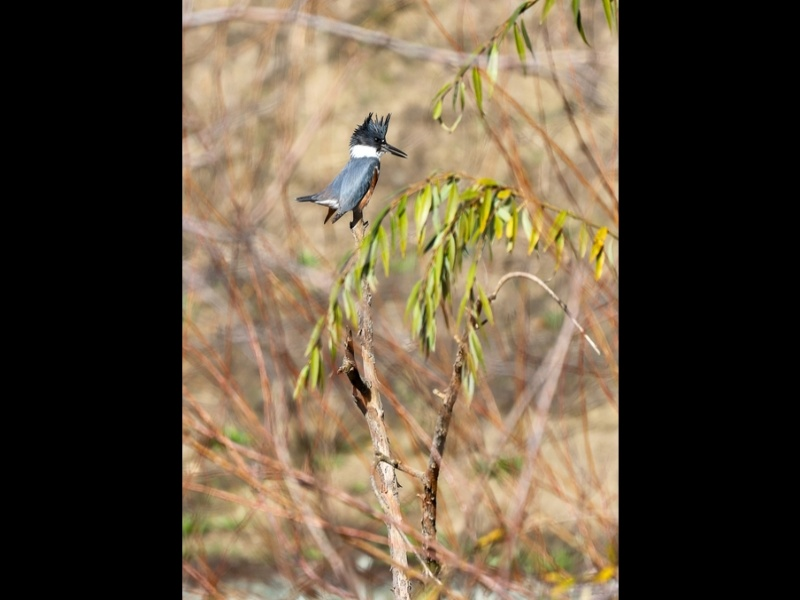kingfisher: (294, 112, 410, 235)
